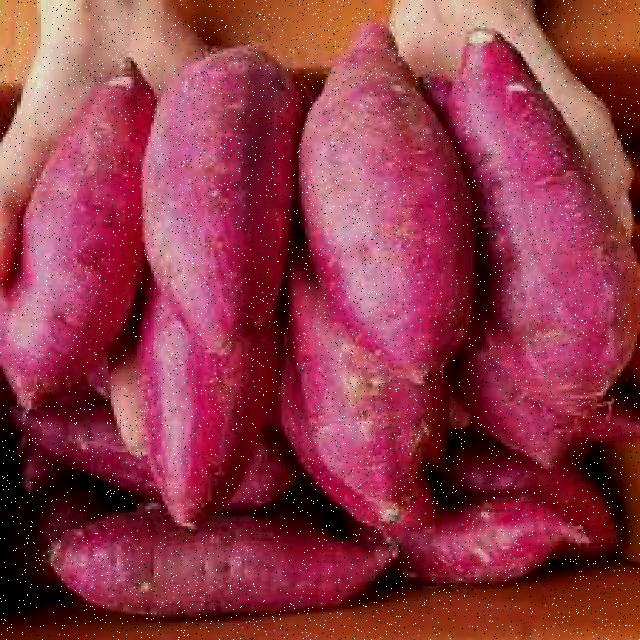Sweet Potato: (446, 0, 637, 438), (277, 0, 477, 398), (147, 33, 322, 353), (9, 46, 146, 423)
